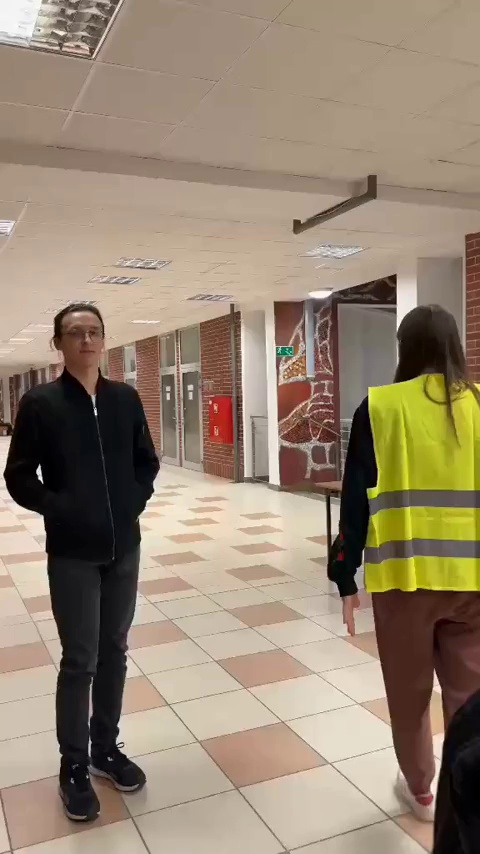no vest: (12, 302, 168, 834)
vest: (331, 304, 480, 810)
